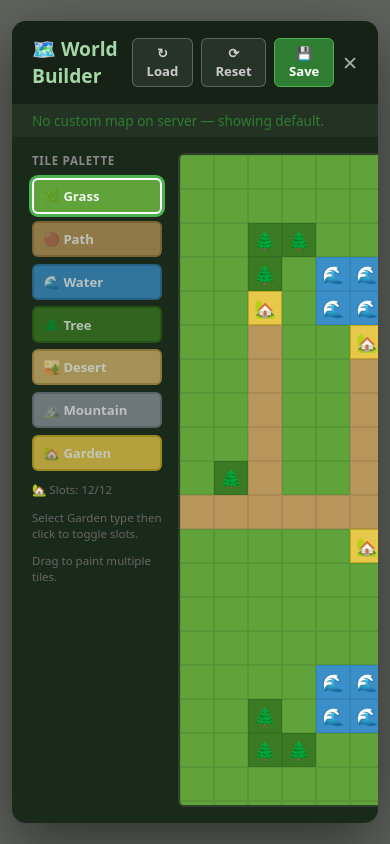
WorldBuilder — save › shows success message after save
Click the button with aria-label "Save map". click: click(304, 62)
box: [274,38,334,87]
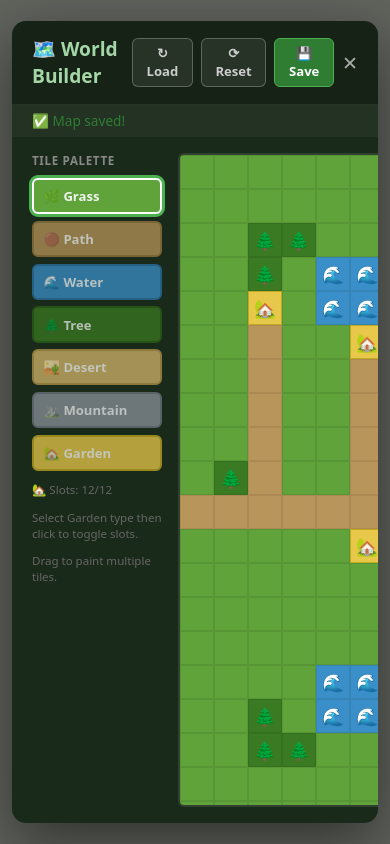
Expected: the text "✅ Map saved!" is shown, [12,105,378,137]
